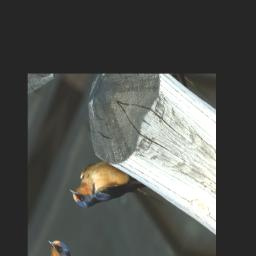Swallow: (66, 145, 168, 254)
